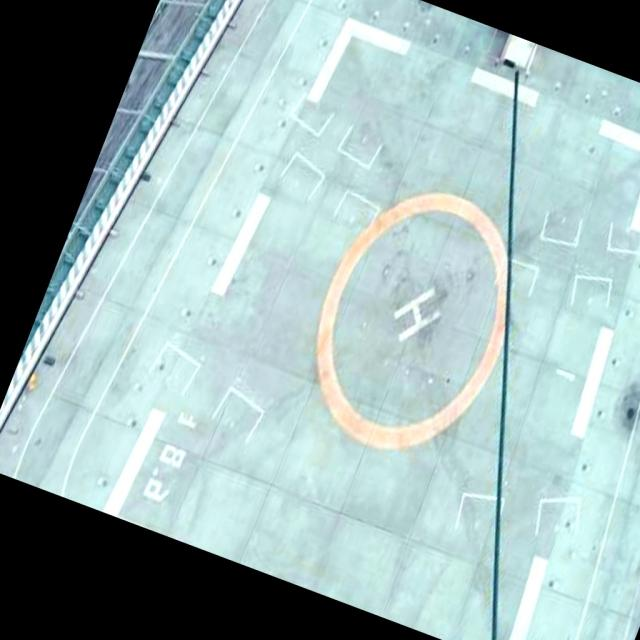helipad: (311, 185, 515, 454)
